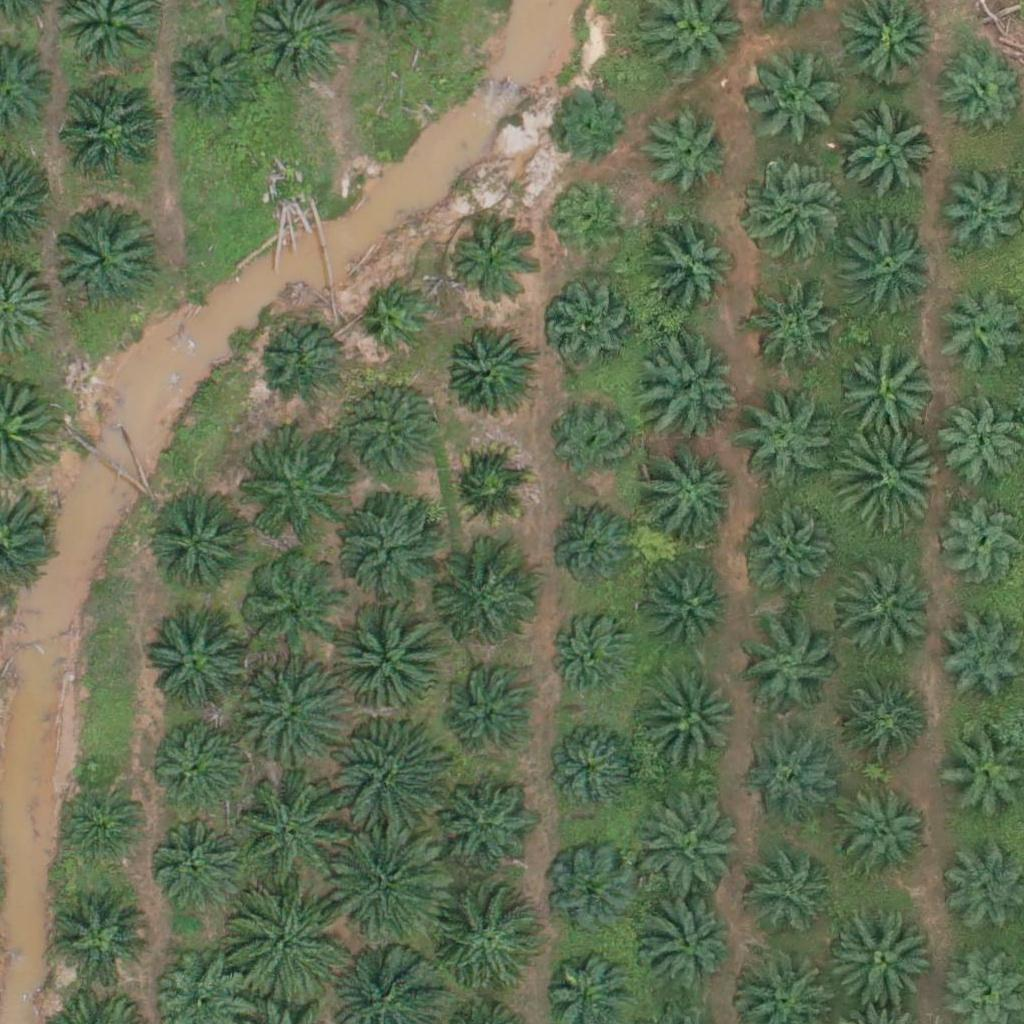Kelapa_Sawit: (334, 828, 447, 941), (334, 717, 447, 830), (333, 599, 446, 712), (334, 484, 447, 597), (231, 659, 344, 772), (233, 888, 346, 1001), (831, 423, 943, 537), (635, 789, 747, 903), (824, 902, 936, 1015), (430, 543, 542, 656), (432, 893, 544, 1006), (238, 773, 350, 886), (829, 780, 929, 881), (842, 347, 942, 448), (734, 395, 834, 496), (736, 505, 836, 606), (741, 849, 841, 950), (641, 441, 741, 542), (541, 841, 641, 942), (433, 781, 533, 882), (235, 441, 335, 542), (241, 553, 341, 654), (147, 707, 247, 808), (147, 615, 247, 716), (153, 489, 253, 590), (49, 887, 149, 988), (50, 213, 150, 314), (742, 161, 842, 262), (634, 102, 734, 203), (830, 558, 930, 658), (739, 615, 839, 715), (739, 739, 839, 839), (640, 222, 740, 322), (643, 338, 743, 438), (644, 675, 744, 775), (637, 896, 737, 996), (542, 720, 642, 820), (342, 376, 442, 476), (150, 809, 250, 909), (838, 101, 938, 201), (837, 216, 937, 316), (746, 46, 846, 146), (59, 81, 159, 181), (933, 291, 1021, 379), (835, 674, 923, 762), (756, 292, 844, 380), (643, 558, 731, 646), (544, 179, 632, 267), (548, 397, 636, 485), (549, 509, 637, 597), (549, 614, 637, 702), (257, 317, 345, 405), (546, 280, 633, 368), (448, 221, 535, 309), (444, 326, 531, 414), (444, 444, 531, 532), (441, 665, 528, 753), (56, 775, 143, 863), (546, 80, 633, 168), (170, 33, 257, 121), (360, 283, 435, 359)
